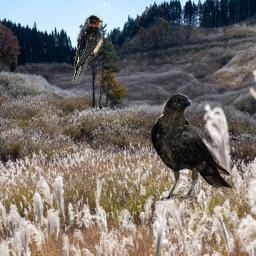Crow: (149, 93, 233, 201)
Swallow: (71, 14, 103, 84)
